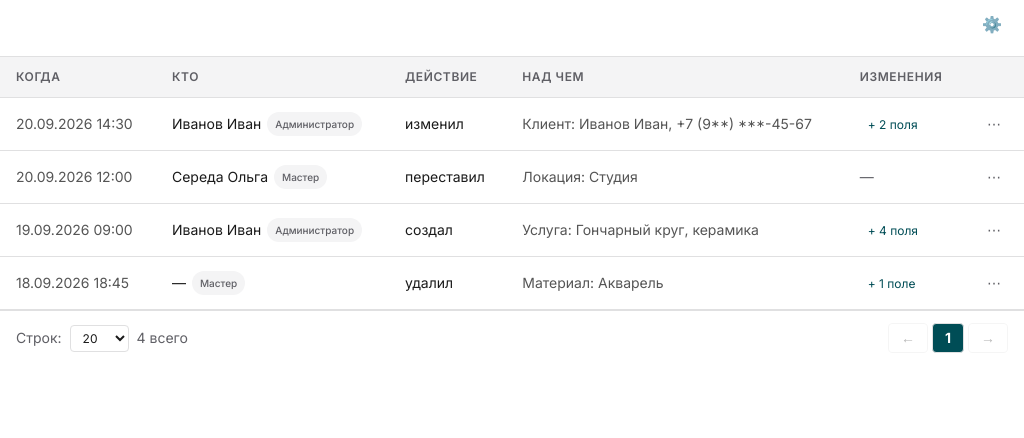
Test: AuditLogTable (GH #344 §7) › clicking the expand toggle reveals the «поле: было → стало» lines
Click the button with aria-label "Раскрыть изменения" at (893, 124), box [860,114,926,134]
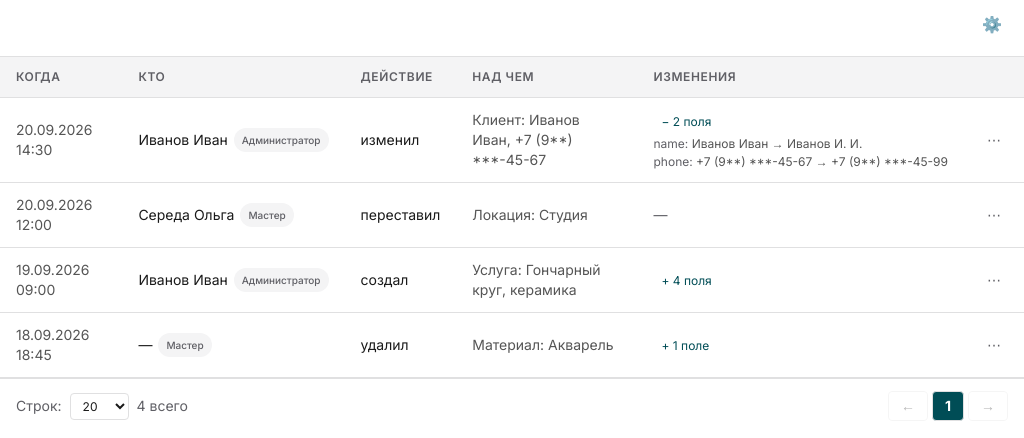
Result: the text "name:" is shown at [654,136,688,150]
Result: the text "name: Иванов Иван → Иванов И. И." is shown at [654,136,862,150]
Result: the text "→" next to "Иванов И. И." is shown at [772,136,784,150]
